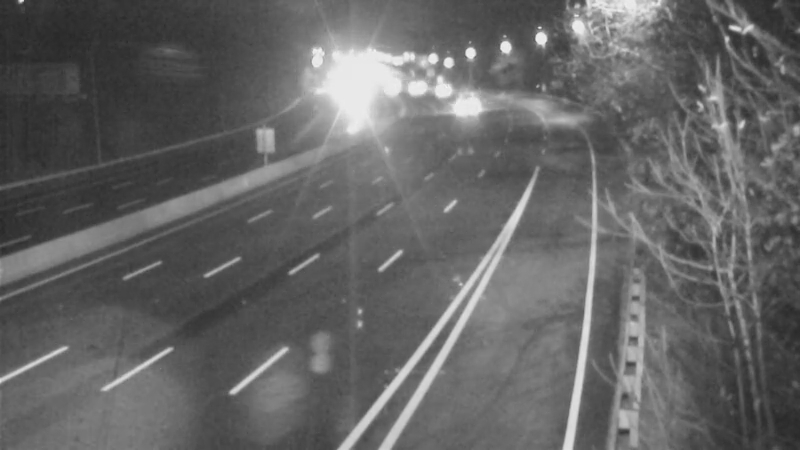vehicle: (418, 61, 468, 111), (441, 84, 491, 134)
